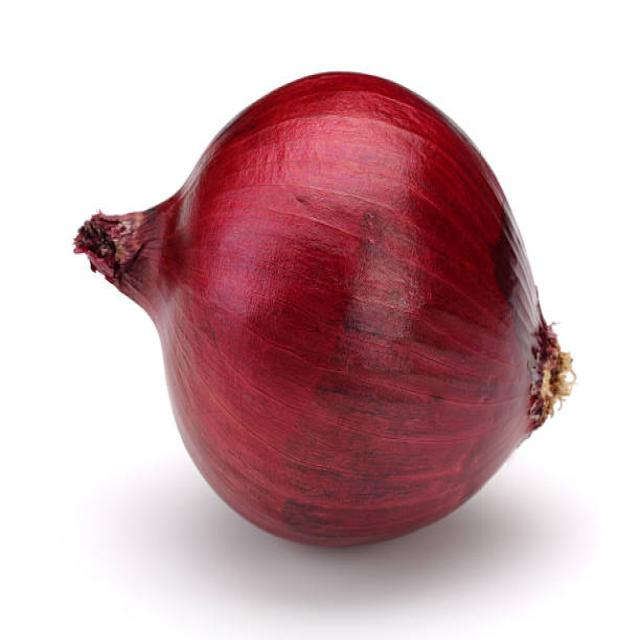onion: (152, 52, 564, 556)
